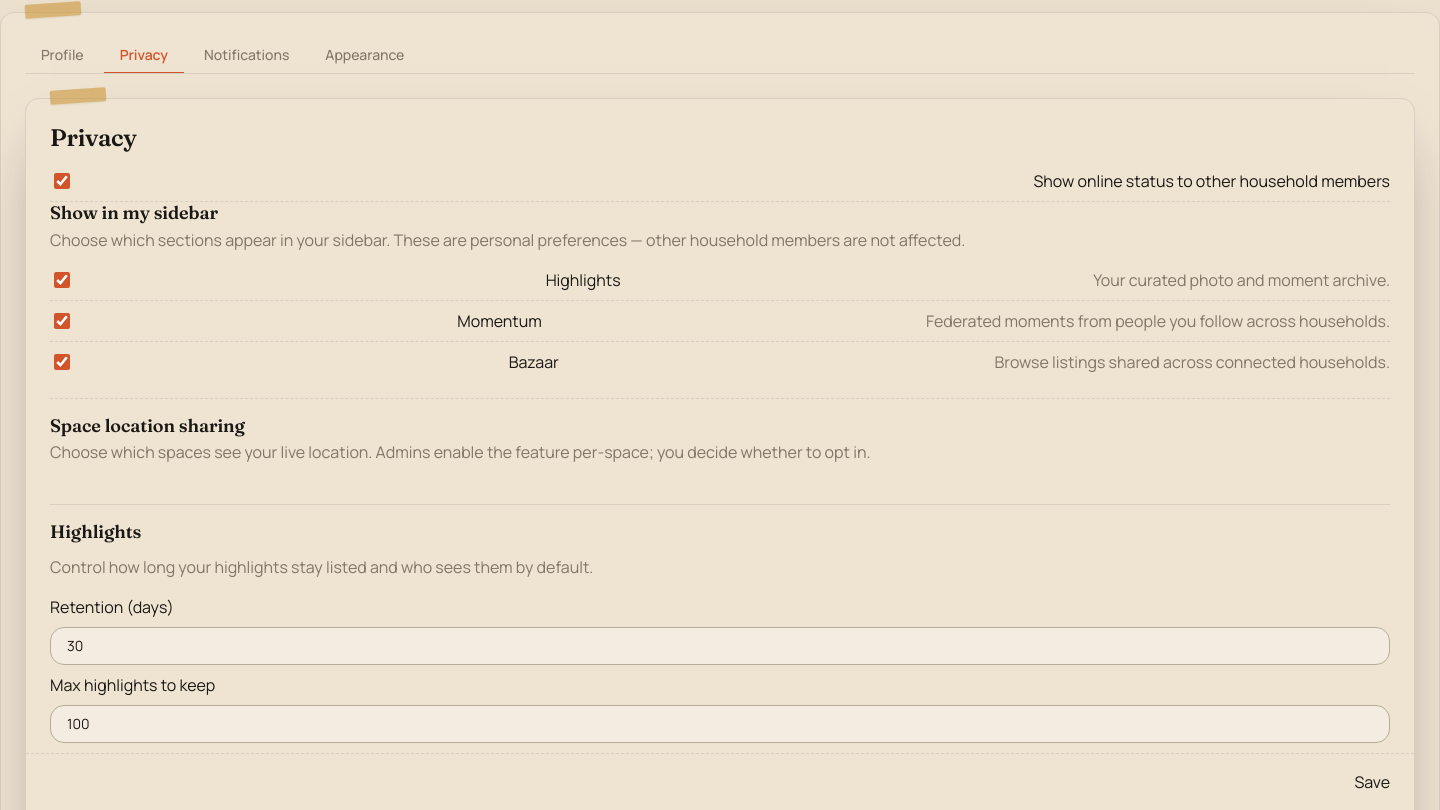
Test case: SpaceLocationSharingPanel › reflects location_share_enabled=true as a checked checkbox
This screenshot has width=1440, height=810.
What coordinates should you click on to do the following:
click the tab "Privacy"
I would click on:
 (144, 56)
Its box is [104,37,184,74].
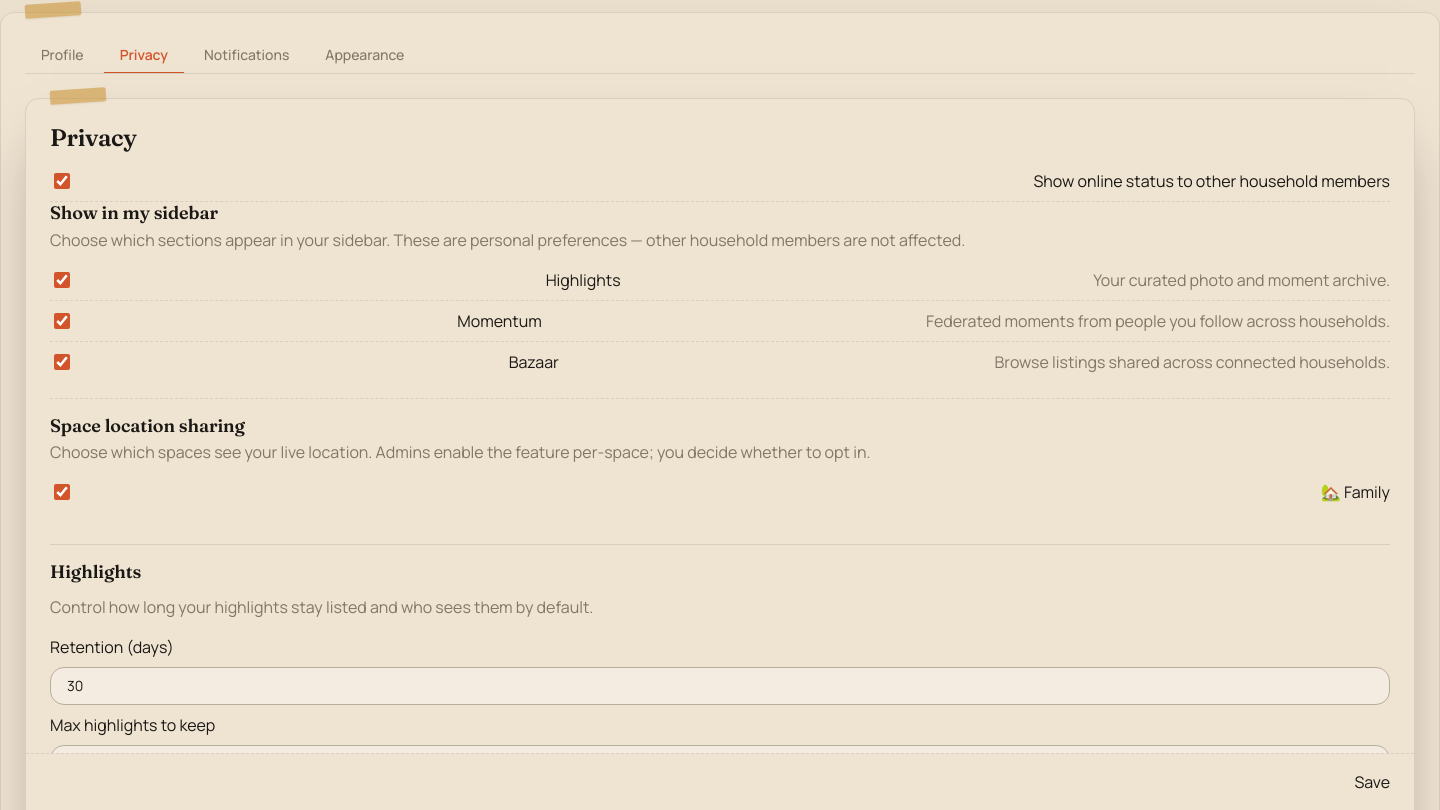
Expected: the checkbox labelled "🏡 Family" is checked, [54,484,70,500]
